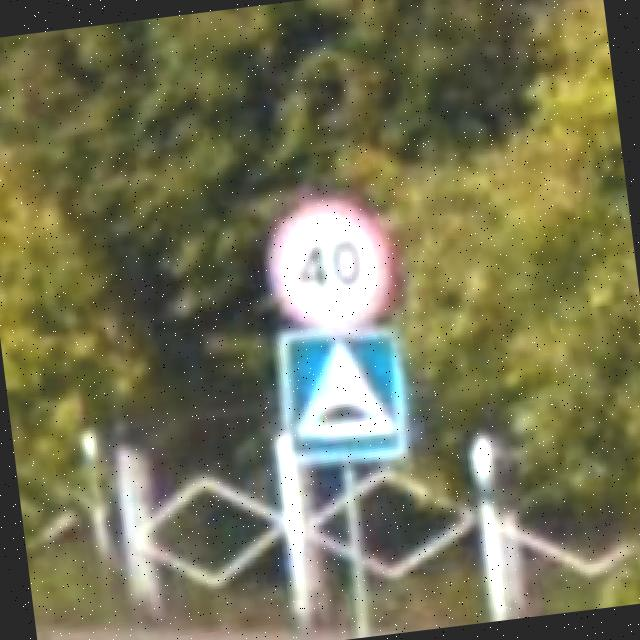Ograniczenie predkosci do 40: (254, 188, 402, 344)
